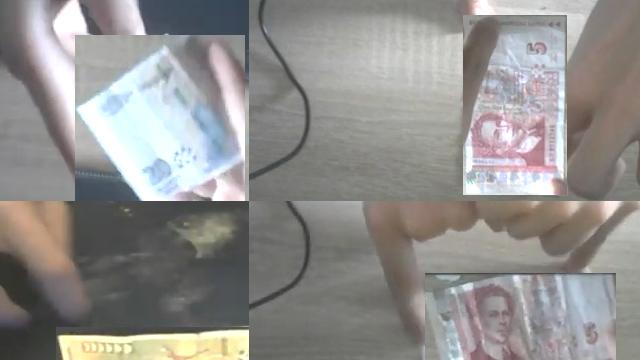10leva: (56, 327, 249, 360)
20leva: (75, 35, 245, 201)
5leva: (463, 15, 567, 195), (425, 273, 616, 360)
